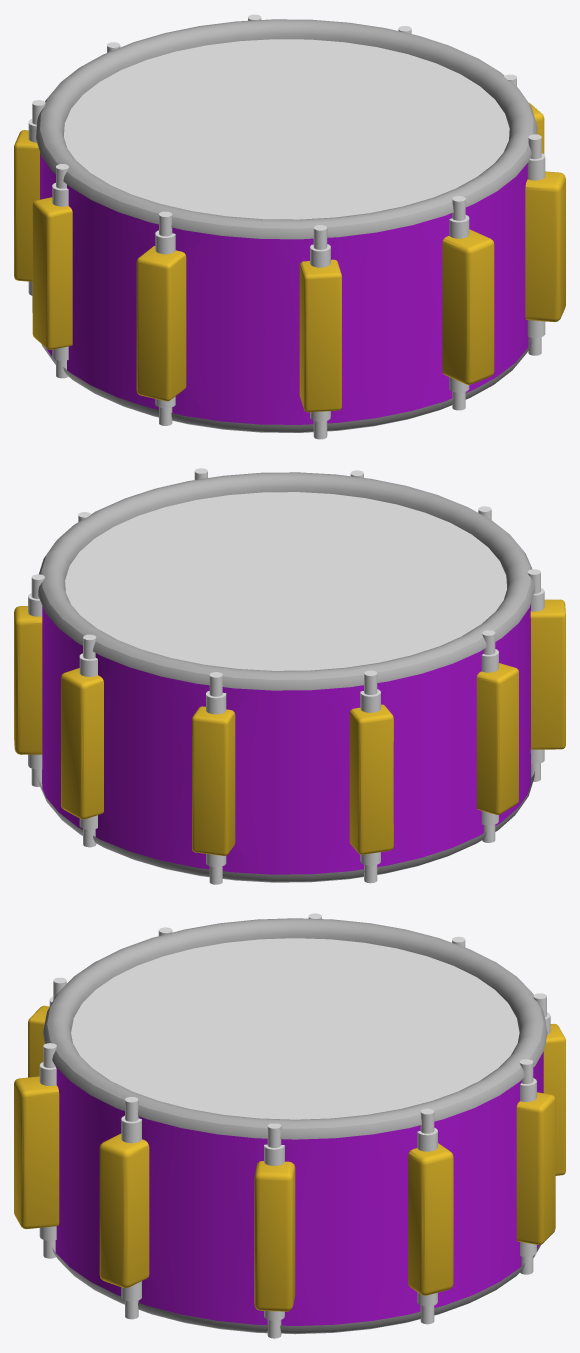
Rendered from snare.fbx.
3 views of the same model, one above another, from view 1: azimuth 30°, elevation 25°; view 2: azimuth 150°, elevation 25°; view 3: azimuth 270°, elevation 25° (orthographic).
Visible parts, largest first — view 1: Torus.004; view 2: Torus.004; view 3: Torus.004.
Boxes of the visible parts, x1,y1,x2,y2 form: Torus.004: [14, 14, 565, 439]; Torus.004: [14, 468, 565, 884]; Torus.004: [14, 913, 565, 1338].
Size of the model in its own units: 40.78 by 17.55 by 40.5.
